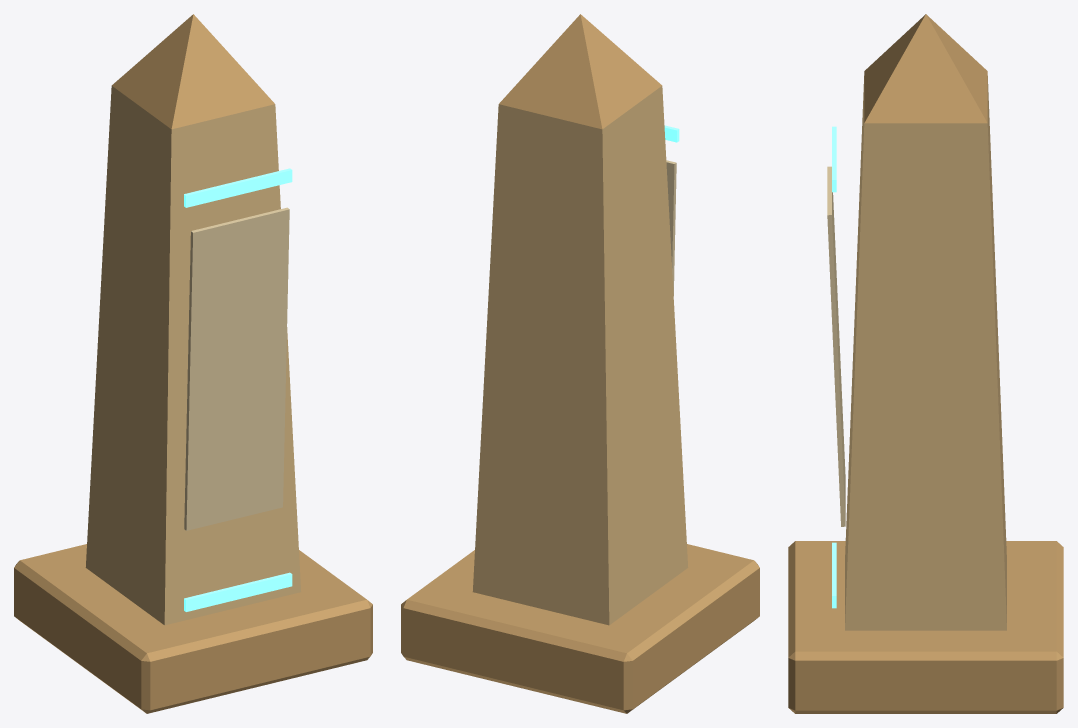
Rendered from map3_obelisk_v01.glb.
3 views of the same model, side by side, from view 1: azimuth 30°, elevation 25°; view 2: azimuth 150°, elevation 25°; view 3: azimuth 270°, elevation 25° (orthographic). The views are drawn at different scales.
Visible parts, largest first — view 1: obelisk; view 2: obelisk; view 3: obelisk.
Part boxes in pixels (<box>): obelisk: <box>14,14,372,713</box>; obelisk: <box>401,14,759,713</box>; obelisk: <box>788,14,1063,713</box>.
Size of the model in its own units: 1.2 by 3.1 by 1.2.
